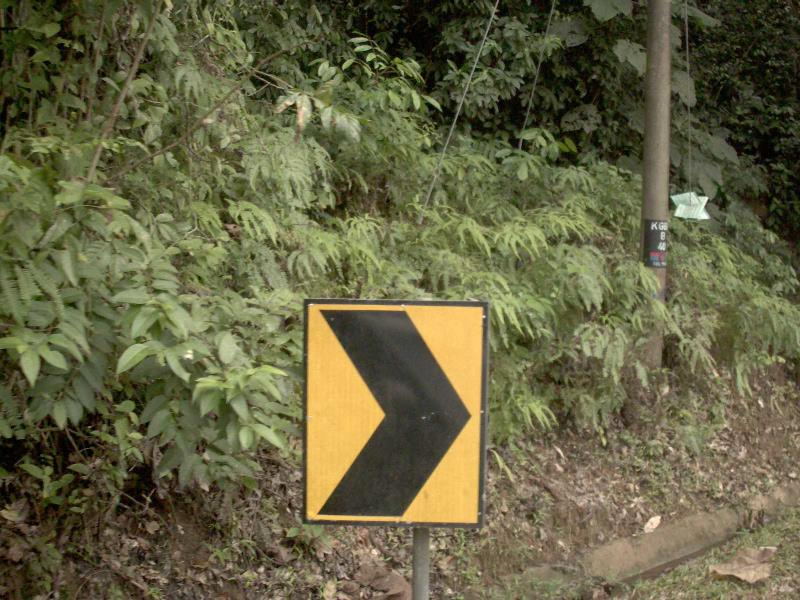traffic_sign: (279, 284, 514, 546)
